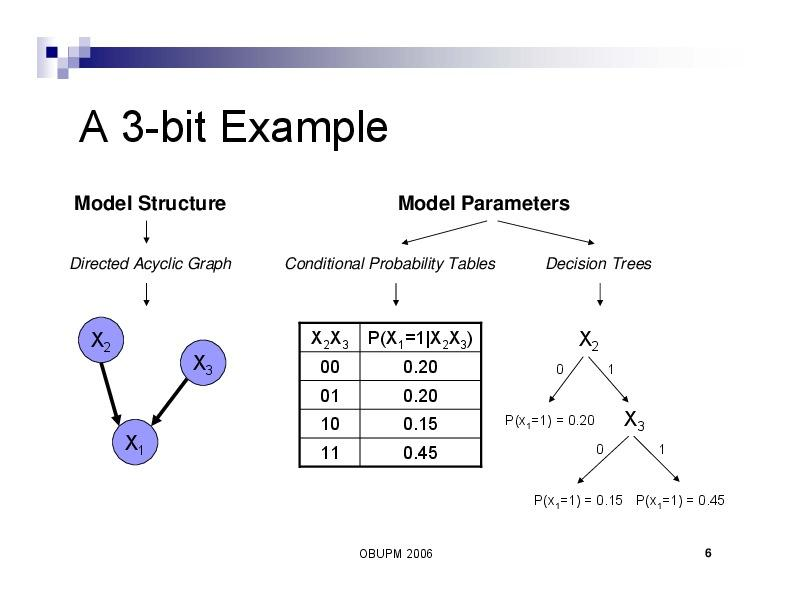subtitle: (395, 187, 574, 219), (71, 189, 230, 217)
title: (74, 93, 399, 157)
